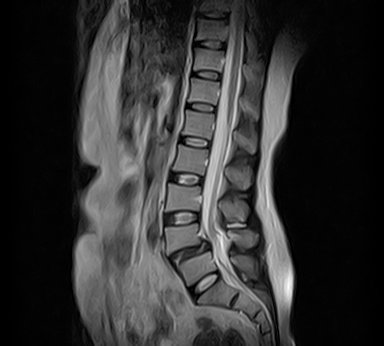L1,v1: (176, 113, 217, 136)
L1-L2,v1: (174, 129, 215, 152)
L2,v1: (170, 147, 211, 170)
L2-L3,v1: (166, 168, 207, 191)
L3,v1: (161, 186, 202, 209)
L3-L4,v1: (162, 206, 203, 229)
L4,v1: (161, 226, 202, 249)
L4-L5,v3: (169, 243, 210, 266)
L5,v2: (178, 256, 219, 279)
L5-S1,v1: (185, 271, 226, 294)
T12-L1,v1: (181, 94, 222, 117)
